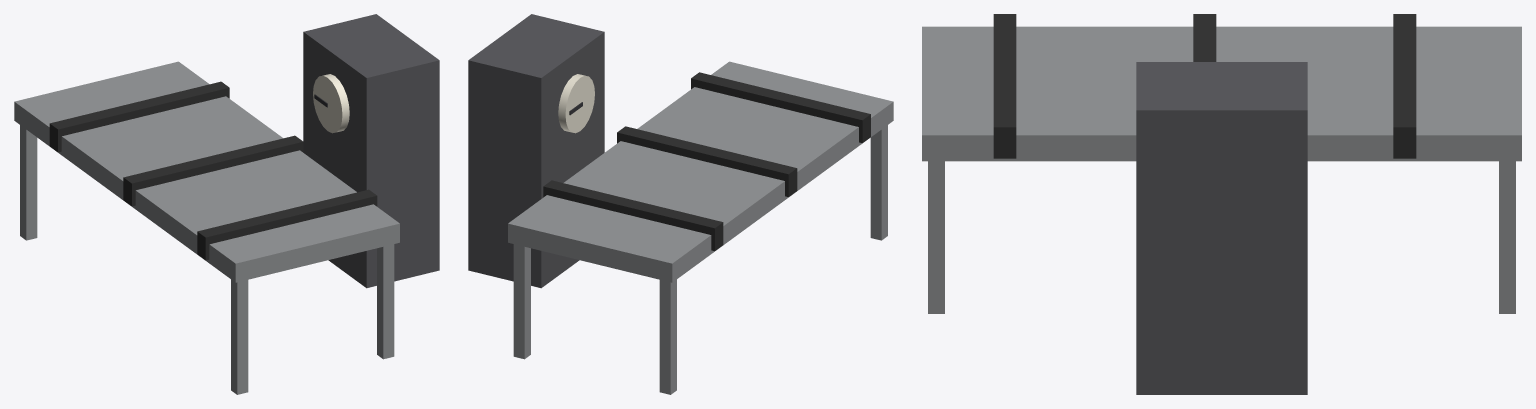
File: rack.glb
3 renders of one model, left to right at view 1: azimuth 30°, elevation 25°; view 2: azimuth 150°, elevation 25°; view 3: azimuth 270°, elevation 25°, orthographic. The views are drawn at different scales.
Visible parts, largest first — view 1: rack; view 2: rack; view 3: rack.
Boxes of the visible parts, bbox=[...] form: rack: bbox=[14, 14, 439, 394]; rack: bbox=[468, 14, 893, 394]; rack: bbox=[922, 14, 1521, 394].
Size of the model in its own units: 1.57 by 1.1 by 2.1.
